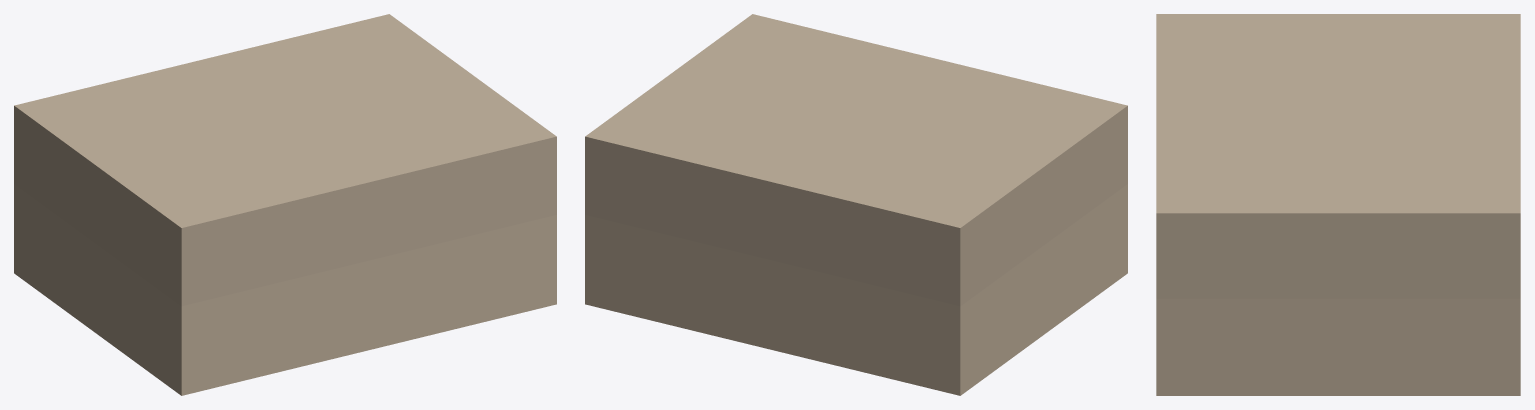
File: massing.glb
3 views of the same model, side by side, from view 1: azimuth 30°, elevation 25°; view 2: azimuth 150°, elevation 25°; view 3: azimuth 270°, elevation 25° (orthographic). The views are drawn at different scales.
Parts seen in each view (by area): view 1: main/floor2/0/0, main/floor1/0/0; view 2: main/floor2/0/0, main/floor1/0/0; view 3: main/floor2/0/0, main/floor1/0/0.
Boxes of the visible parts, x1,y1,x2,y2 form: main/floor2/0/0: (14,14,556,306); main/floor1/0/0: (14,184,556,395); main/floor2/0/0: (585,14,1127,306); main/floor1/0/0: (585,184,1127,395); main/floor2/0/0: (1156,14,1520,298); main/floor1/0/0: (1156,298,1520,395).
Bounding box in the file's own units: 14.04 × 6 × 10.85.
